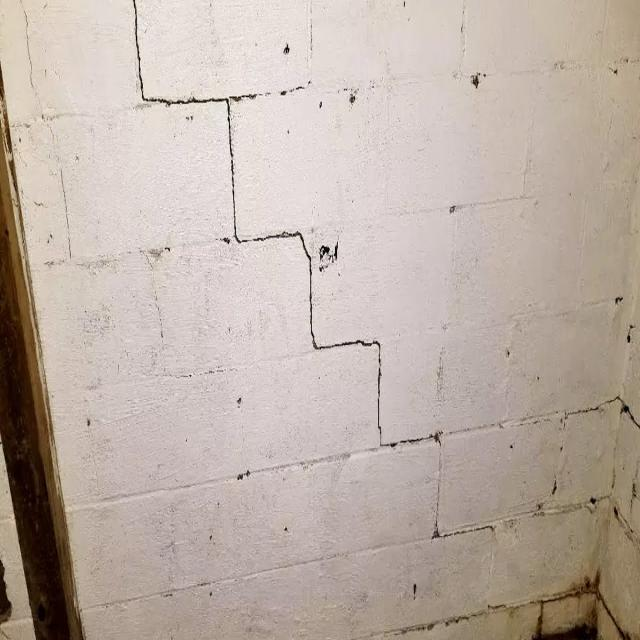Crack: (130, 2, 495, 546), (552, 395, 640, 527), (20, 0, 42, 106)
